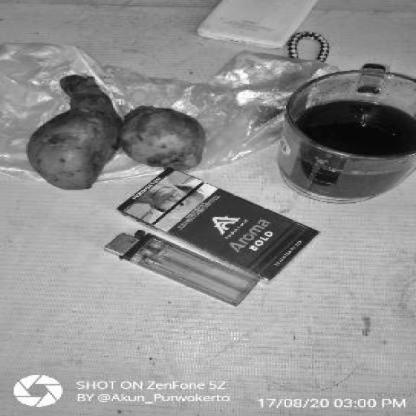objects: (117, 168, 319, 282)
